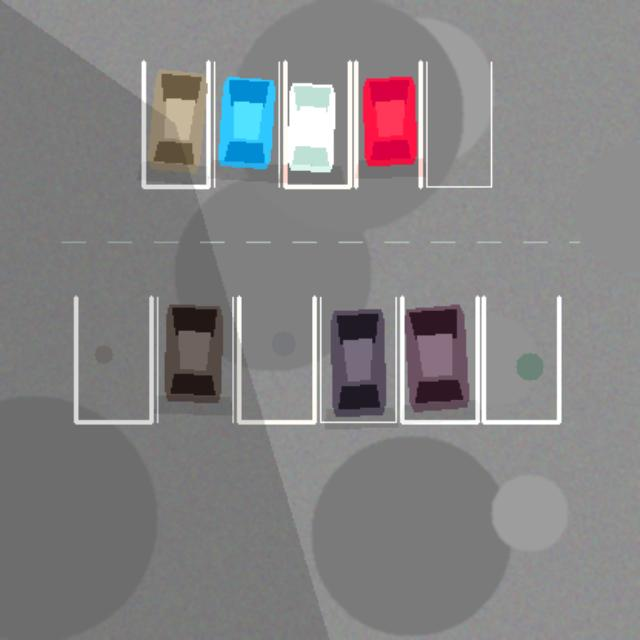space-empty: (75, 297, 151, 422), (238, 297, 314, 422), (483, 297, 558, 422), (426, 62, 491, 186)
space-occupied: (157, 297, 232, 422), (320, 297, 395, 422), (402, 297, 477, 422), (143, 62, 208, 186), (355, 62, 420, 186), (214, 62, 278, 186), (285, 62, 349, 186)
